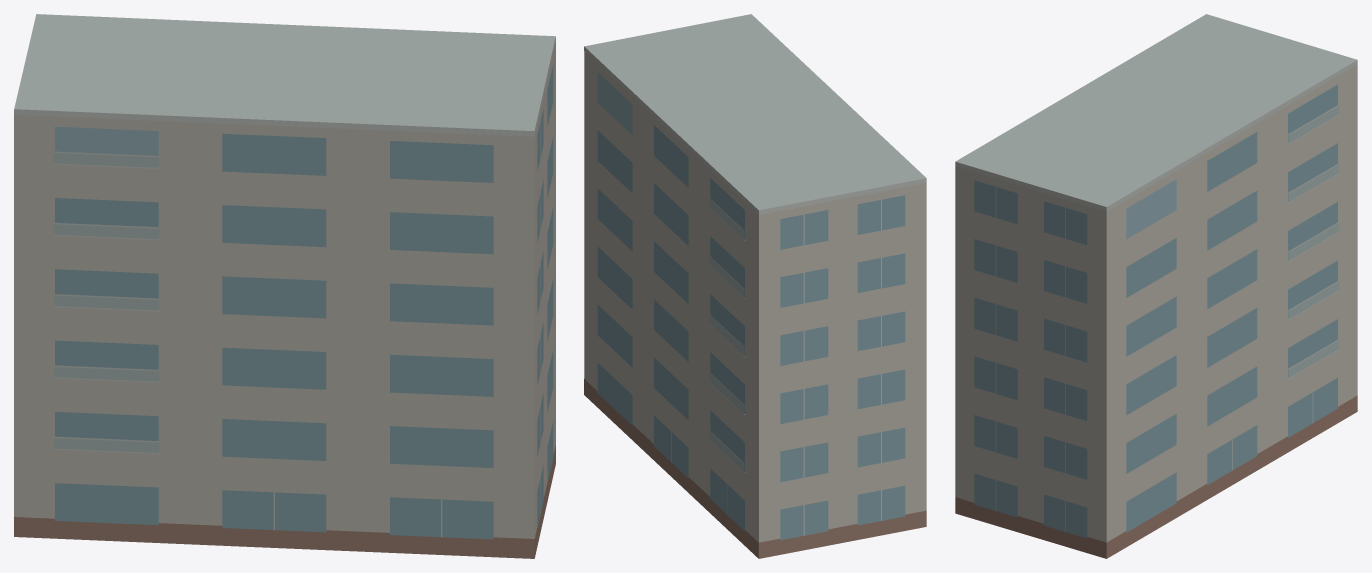
Rendered from survey-upis-32964064.glb.
3 views of the same model, side by side, from view 1: azimuth 30°, elevation 25°; view 2: azimuth 150°, elevation 25°; view 3: azimuth 270°, elevation 25° (orthographic). The views are drawn at different scales.
Visible parts, largest first — view 1: survey-upis-32964064.tmp; view 2: survey-upis-32964064.tmp; view 3: survey-upis-32964064.tmp.
Boxes of the visible parts, <box> form: survey-upis-32964064.tmp: <box>14,14,555,558</box>; survey-upis-32964064.tmp: <box>584,14,926,558</box>; survey-upis-32964064.tmp: <box>955,14,1357,558</box>.
Size of the model in its own units: 21.55 by 18.3 by 18.98.
